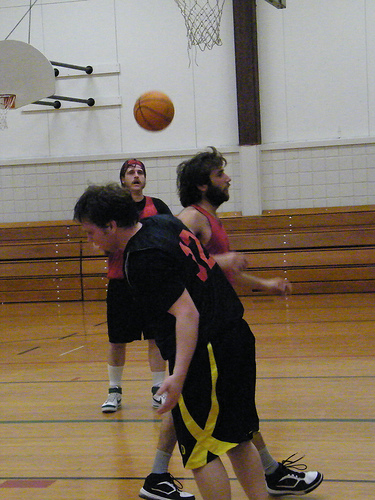basketball: (133, 92, 175, 133)
